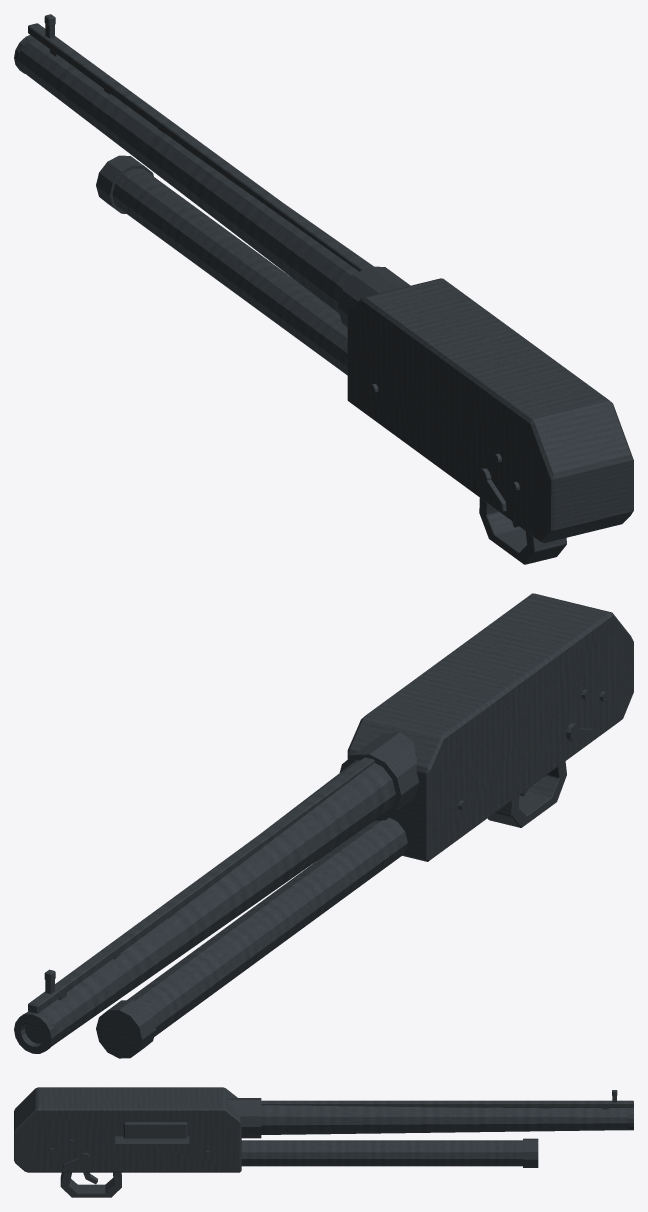
File: weapon_rem870.glb
3 views of the same model, one above another, from view 1: azimuth 30°, elevation 25°; view 2: azimuth 150°, elevation 25°; view 3: azimuth 270°, elevation 25° (orthographic). The views are drawn at different scales.
Parts seen in each view (by area): view 1: body_LOD0; view 2: body_LOD0; view 3: body_LOD0, action_LOD0.
Boxes of the visible parts, box(x1,y1,x2,y2) form: body_LOD0: box(14, 14, 633, 564); body_LOD0: box(14, 593, 633, 1058); body_LOD0: box(14, 1087, 633, 1197); action_LOD0: box(123, 1122, 187, 1138).
Size of what is drawn, in the model's own units: 0.104 by 0.1995 by 1.09.
Materials: 1 (1 with a texture image).
